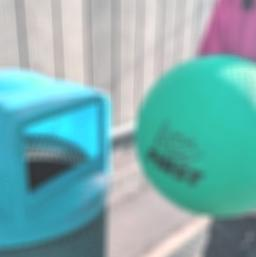algae: (136, 52, 256, 217)
